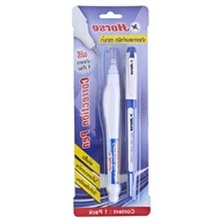book: (69, 3, 151, 219)
correction_fluid: (100, 44, 123, 204)
